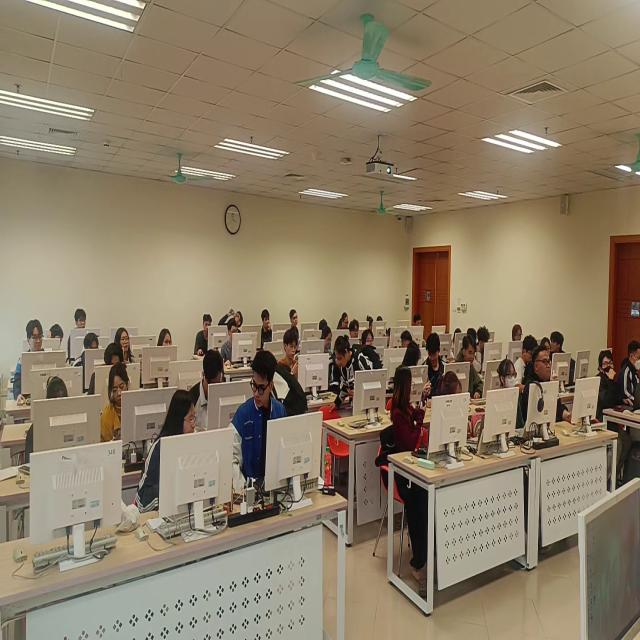raise_head: (524, 346, 580, 438), (593, 344, 627, 451), (496, 357, 530, 446), (116, 326, 136, 369), (259, 309, 275, 354), (156, 328, 176, 362), (75, 308, 94, 339), (510, 326, 525, 354), (289, 309, 303, 334)
stand: (334, 333, 381, 439)
using_computer: (21, 378, 85, 468), (104, 364, 152, 461), (437, 367, 486, 456), (189, 354, 232, 440), (15, 318, 56, 406), (451, 340, 497, 404), (91, 345, 122, 395), (221, 319, 249, 374), (619, 339, 640, 410), (76, 332, 100, 381), (194, 311, 216, 358), (478, 330, 502, 368), (412, 313, 436, 346), (320, 327, 336, 365), (337, 314, 353, 336), (349, 319, 361, 343)
using_phone: (280, 333, 312, 385)
